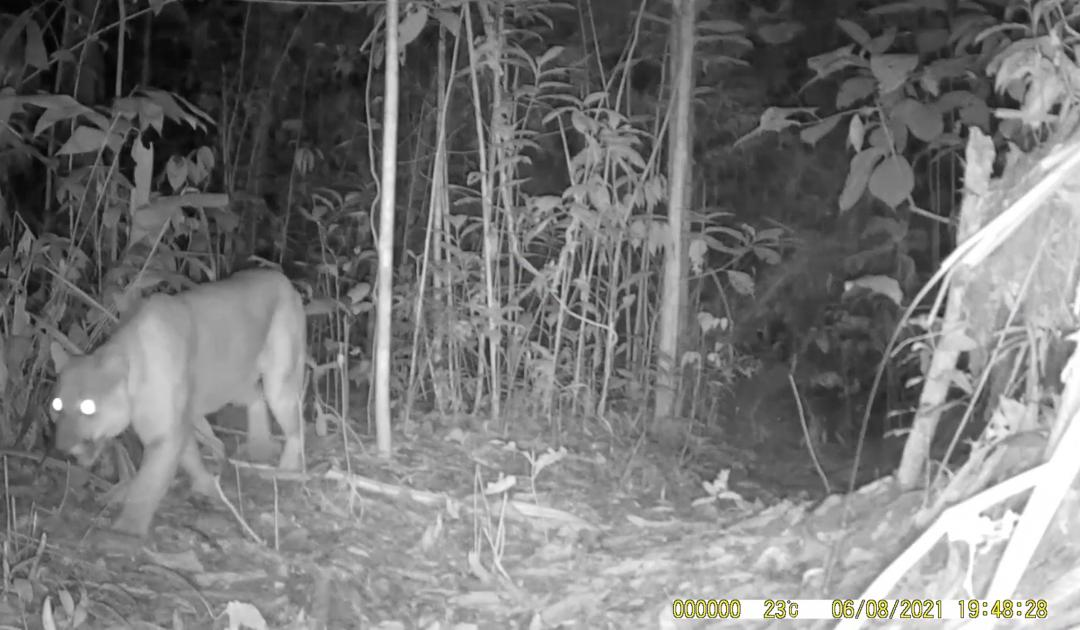OncaParda: (39, 261, 319, 552)
